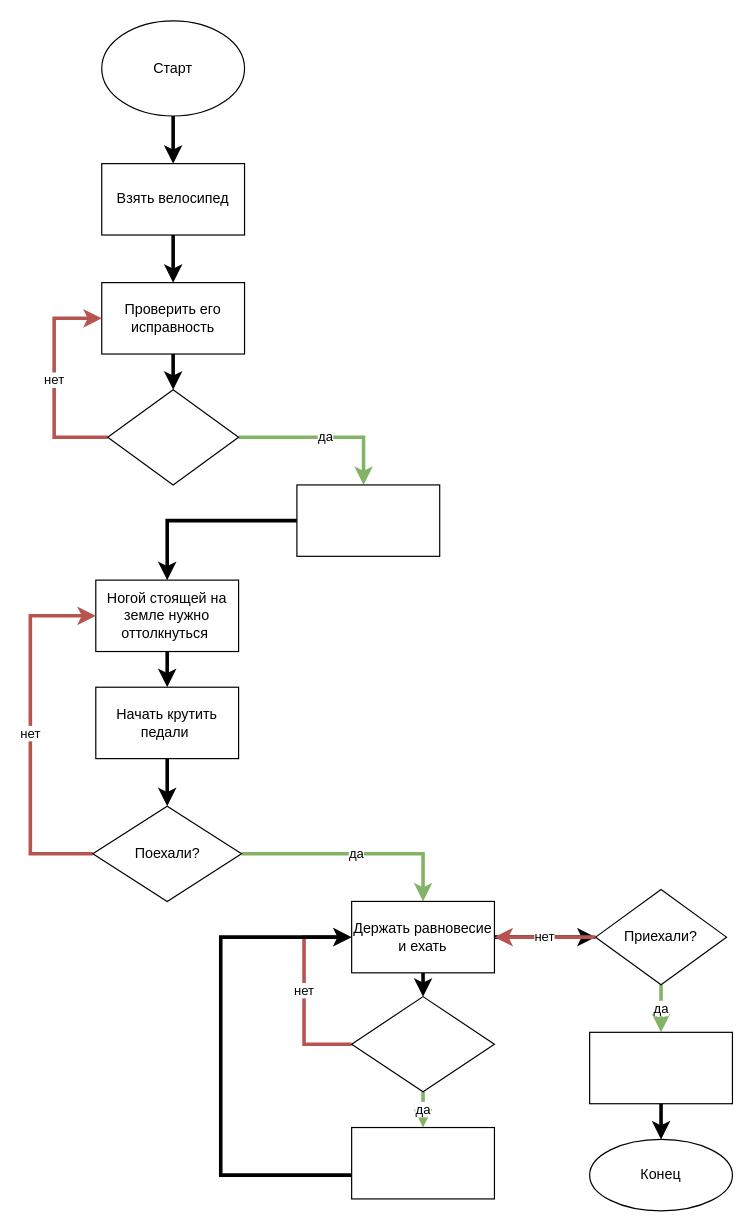
The diagram is 753 pixels wide and 1232 high, and some of its shapes have lost their labels. The centre of each missing label's shape, as x and y in pixels:
"Исправен?" goes at pixel 173 437.
"Останавливаетесь и слазите с велосипеда" goes at pixel 660 1067.
"Поворачиваете руль в сторону поворота" goes at pixel 422 1162.
"Сесть на него и держать руль" goes at pixel 368 520.
"Хотите повернуть?" goes at pixel 422 1043.
